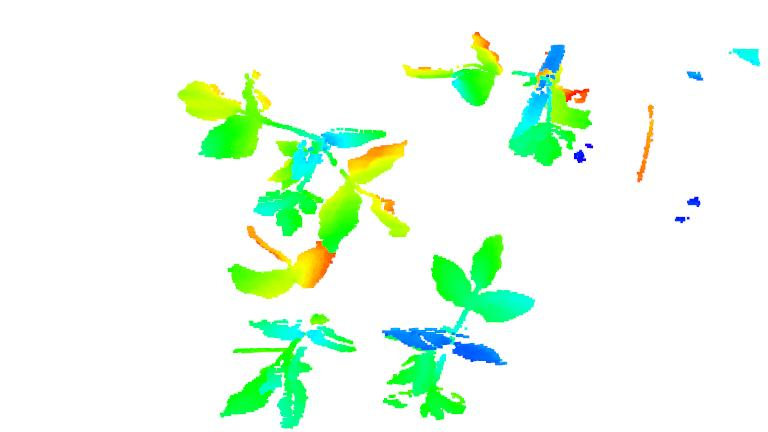mungbean: (171, 67, 414, 251), (381, 233, 536, 424), (404, 25, 601, 169), (223, 229, 362, 432)
